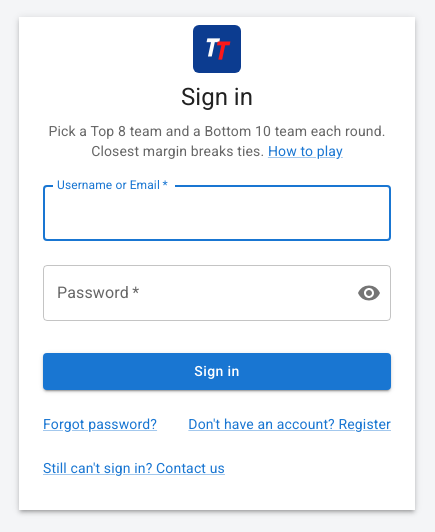
Test: a wrong password still says so
Type "ann" into the field labelled "Username or Email *".
click(217, 213); type("ann")  # box [43,185,391,241]
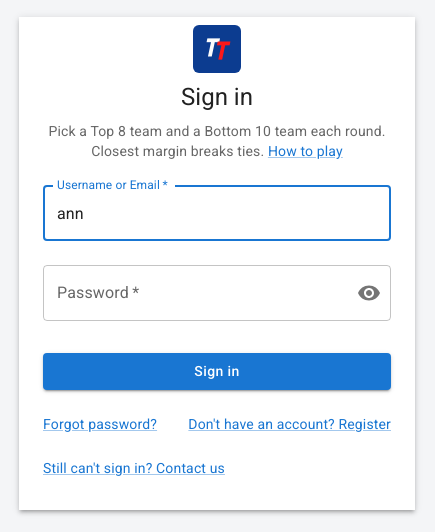
Type "Passw0rd1" into the password field labelled "Password *".
click(192, 293); type("Passw0rd1")  # box [43,265,341,321]
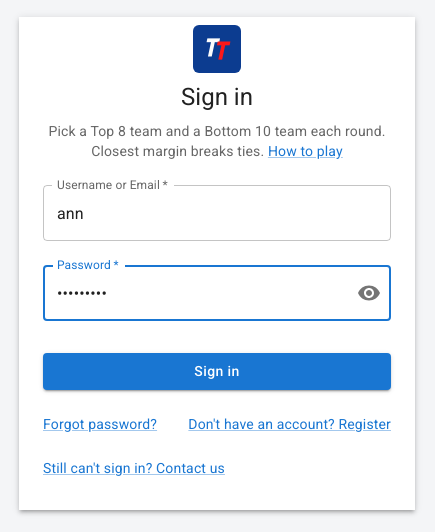
Click the button "Sign in".
click(217, 371)  # box [43,353,391,390]
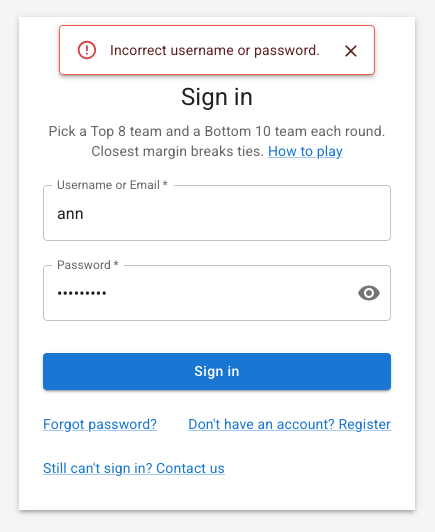
Check: the text "Incorrect username or password." is shown, box [110,42,320,58]
